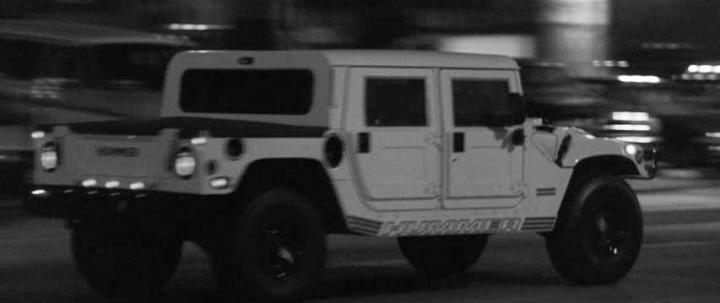car: (28, 48, 663, 302)
